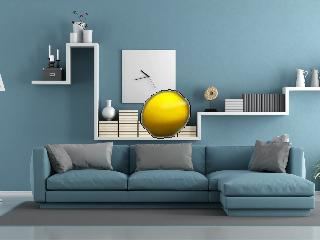lemon: (142, 93, 189, 137)
